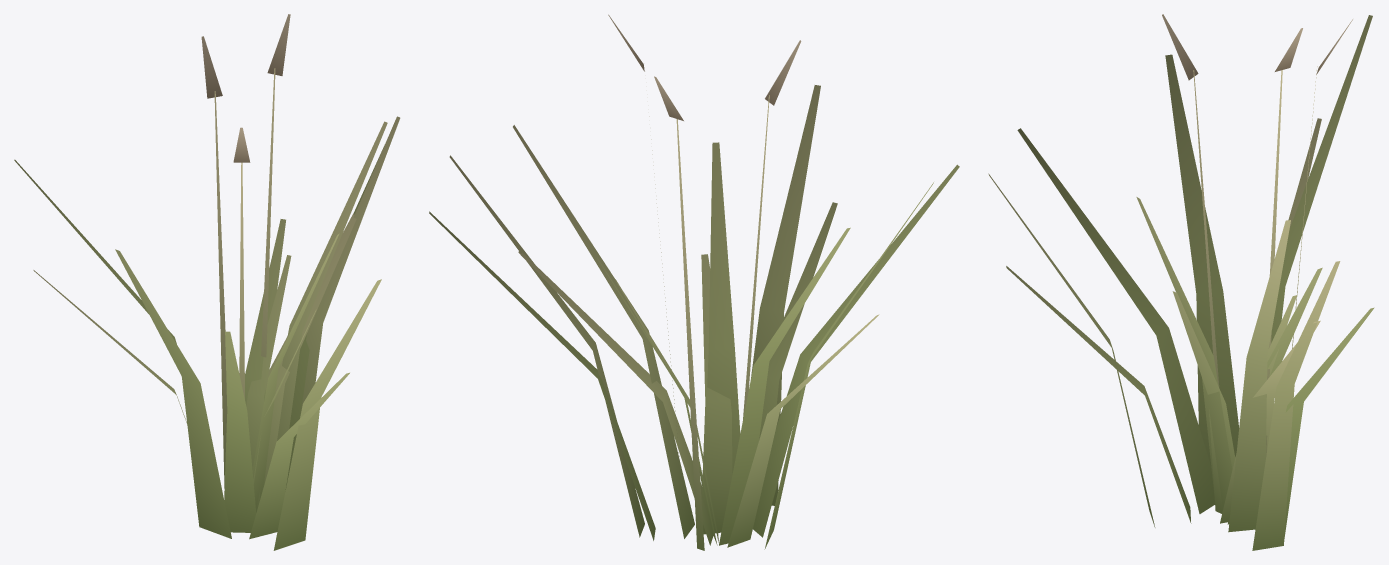
Rendered from canna_2_leggero.glb.
The picture shows the model from 3 angles, left to right: view 1: azimuth 30°, elevation 25°; view 2: azimuth 150°, elevation 25°; view 3: azimuth 270°, elevation 25°; orthographic projection. The views are drawn at different scales.
Parts seen in each view (by area): view 1: canna_2_leggero; view 2: canna_2_leggero; view 3: canna_2_leggero.
Part boxes in pixels (x1,y1,x2,y2): canna_2_leggero: [14, 14, 400, 550]; canna_2_leggero: [429, 14, 959, 550]; canna_2_leggero: [988, 14, 1374, 550].
Size of the model in its own units: 3.1 by 3.67 by 2.43.
